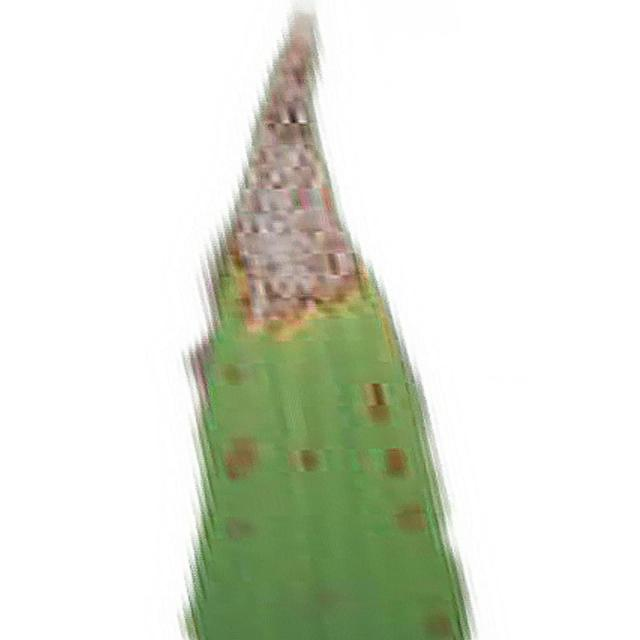Leaf scald: (146, 9, 529, 640)
